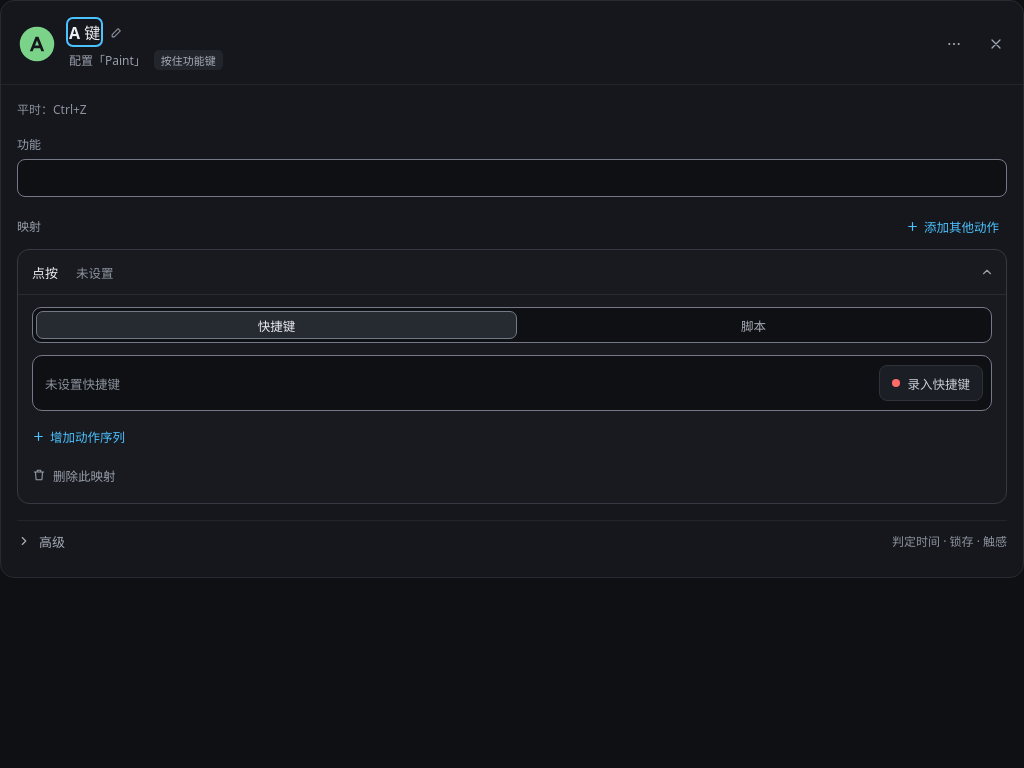
it: starts an empty binding for a control the set leaves out, and shows what it does otherwise
Check: the text with test id "drawer-inherited" reads "平时：Ctrl+Z", box x1=17 y1=101 x2=87 y2=118
Click the button "录入快捷键" at (931, 383), box x1=880 y1=365 x2=983 y2=401
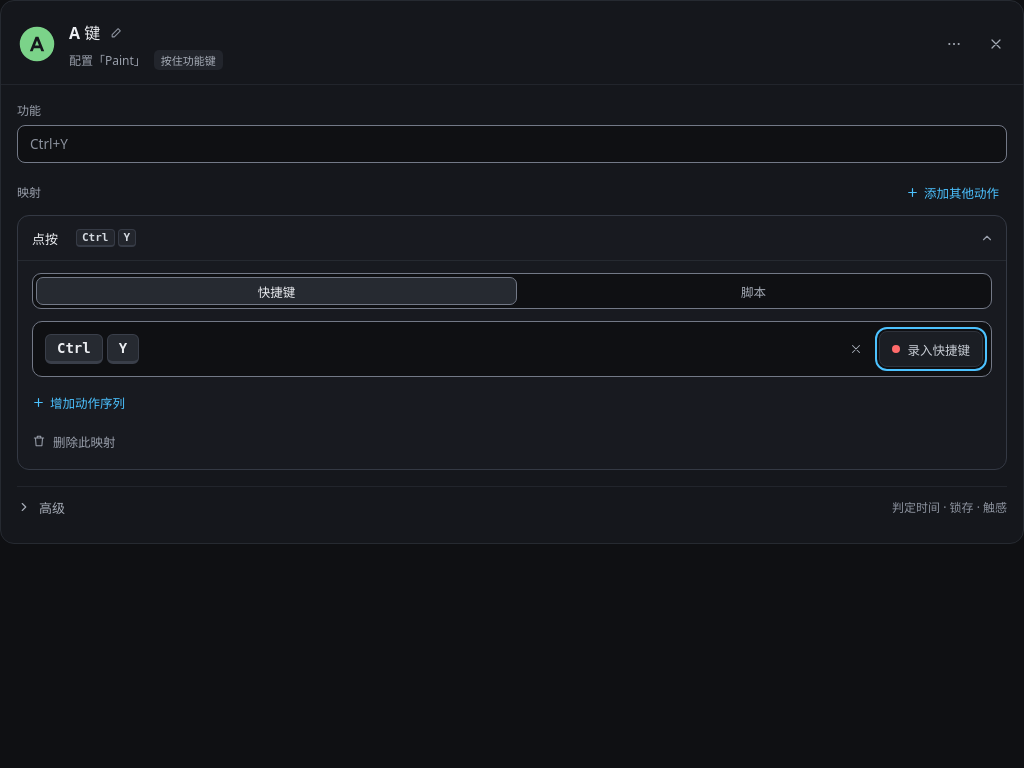
Check: the text with test id "drawer-inherited" is gone
